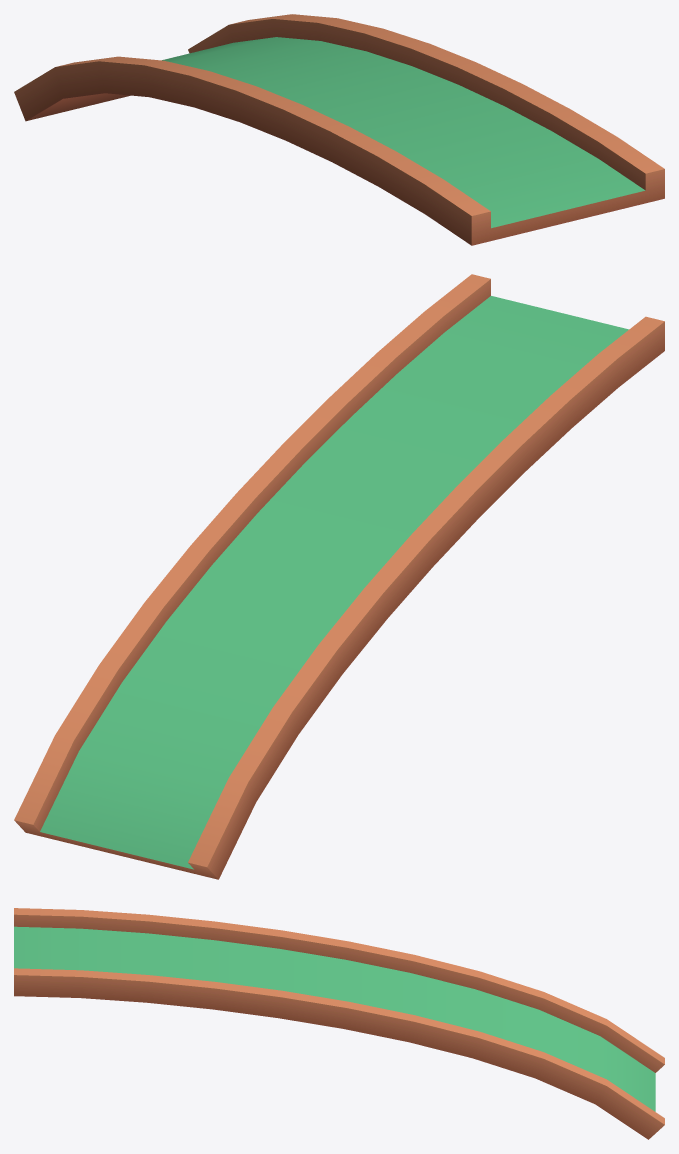
Rendered from spline-default-straight-hill-end.glb.
3 renders of one model, top to bottom at view 1: azimuth 30°, elevation 25°; view 2: azimuth 150°, elevation 25°; view 3: azimuth 270°, elevation 25°, orthographic. The views are drawn at different scales.
Visible parts, largest first — view 1: spline-default-straight-hill-end; view 2: spline-default-straight-hill-end; view 3: spline-default-straight-hill-end.
Boxes of the visible parts, x1=… form: spline-default-straight-hill-end: x1=14, y1=14, x2=664, y2=245; spline-default-straight-hill-end: x1=14, y1=274, x2=664, y2=879; spline-default-straight-hill-end: x1=14, y1=908, x2=664, y2=1139.
Size of the model in its own units: 0.9999 by 1.15 by 4.1.
1 material, 1 textured.
